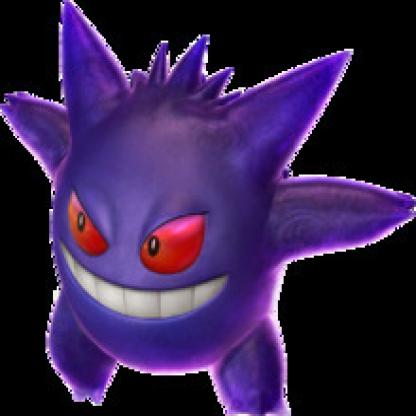Gengar: (1, 1, 415, 415)
